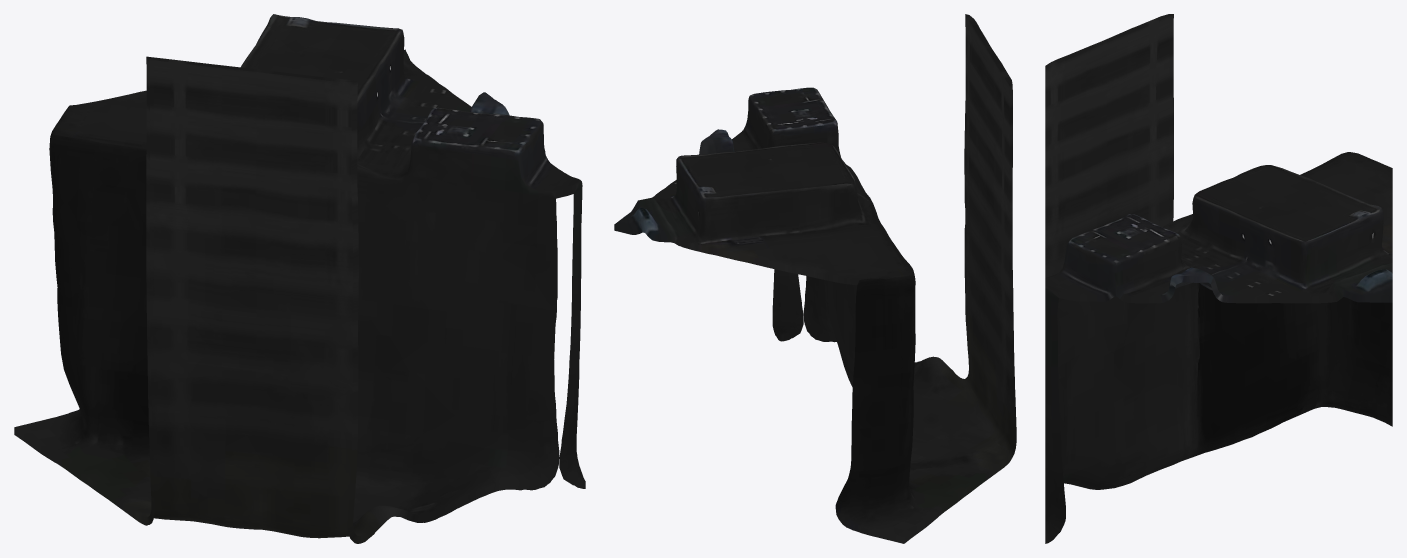
File: z20-167779-405235-h0-yup-uvflip-v3-world.glb
3 views of the same model, side by side, from view 1: azimuth 30°, elevation 25°; view 2: azimuth 150°, elevation 25°; view 3: azimuth 270°, elevation 25° (orthographic). The views are drawn at different scales.
Bounding box in the file's own units: 30.16 × 37.84 × 30.32.
1 material, 1 textured.
